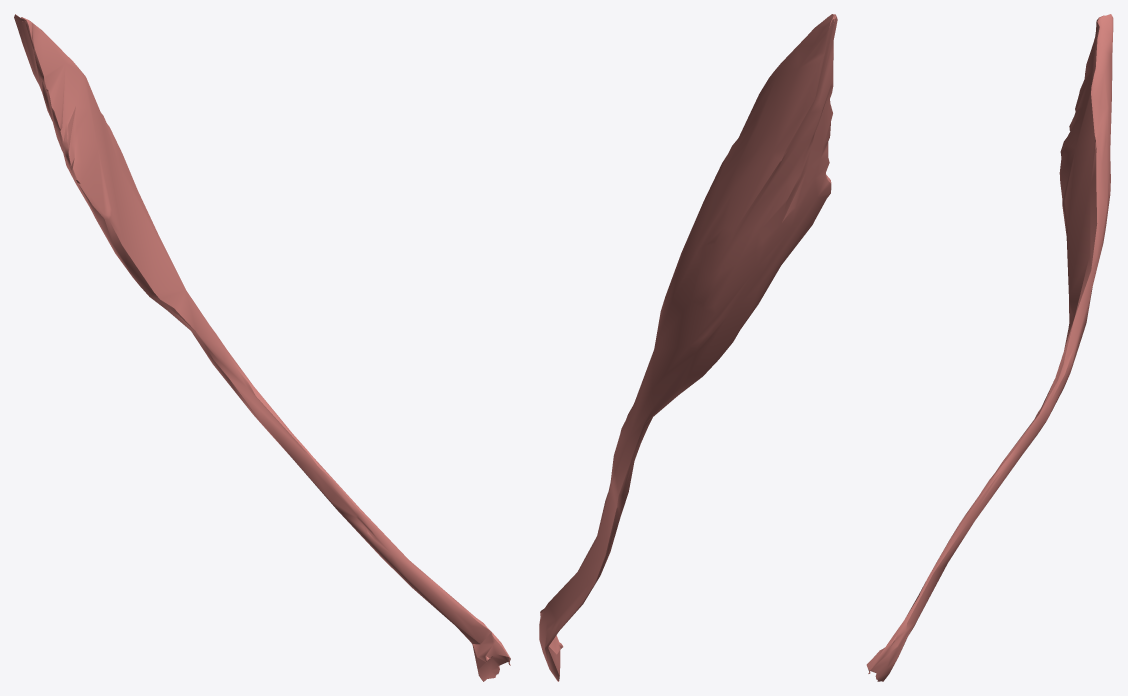
File: fma38520_fj1494m.glb
3 views of the same model, side by side, from view 1: azimuth 30°, elevation 25°; view 2: azimuth 150°, elevation 25°; view 3: azimuth 270°, elevation 25° (orthographic). The views are drawn at different scales.
Parts seen in each view (by area): view 1: FMA38520_FJ1494M; view 2: FMA38520_FJ1494M; view 3: FMA38520_FJ1494M.
Boxes of the visible parts, x1,y1,x2,y2 form: FMA38520_FJ1494M: (14,14,510,681); FMA38520_FJ1494M: (539,14,837,681); FMA38520_FJ1494M: (866,14,1113,681).
Bounding box in the file's own units: 0.0765 × 0.1356 × 0.0567.
